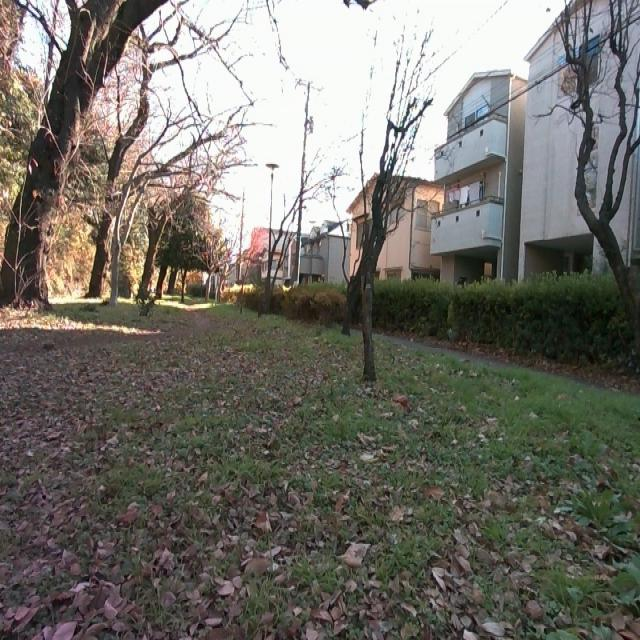artifact: (428, 0, 640, 290), (244, 176, 426, 286)
bush: (350, 250, 640, 378), (249, 273, 356, 321)
tree: (1, 0, 168, 315), (90, 23, 251, 305), (325, 0, 438, 383), (546, 0, 640, 376), (130, 115, 253, 313), (261, 159, 352, 317)
